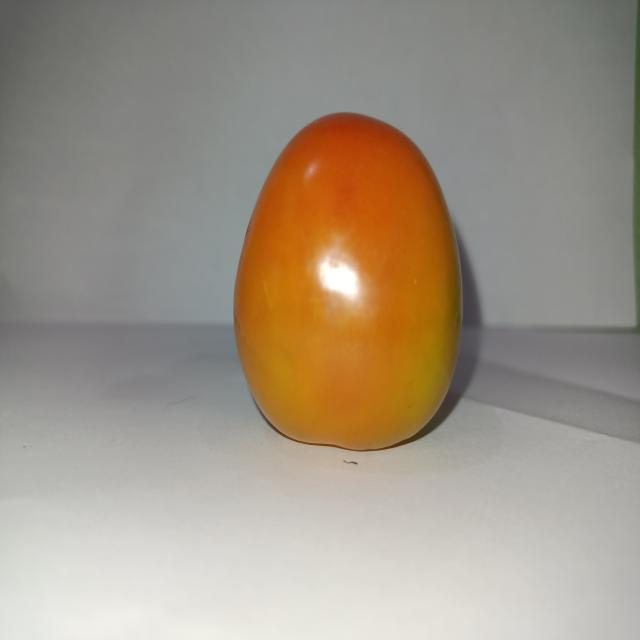Red: (232, 110, 464, 452)
